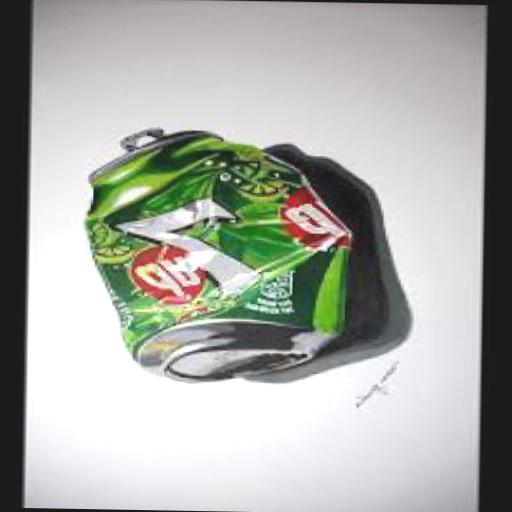metal: (80, 122, 356, 384)
